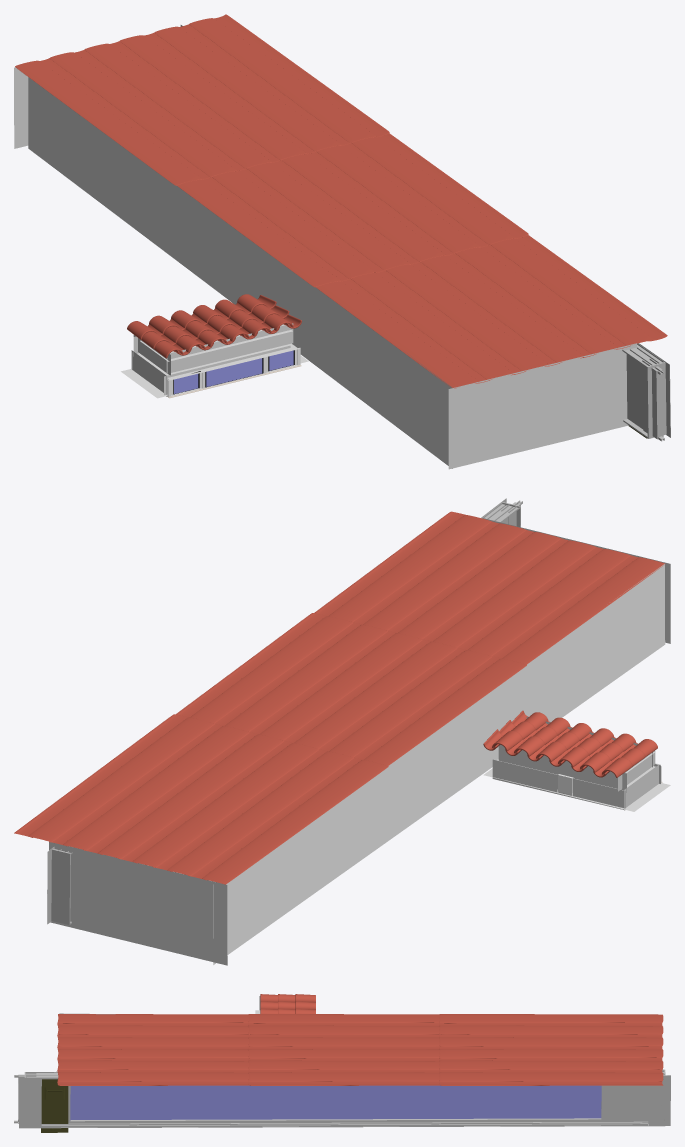
Rendered from HM Coastguard Airbase.fbx.
The picture shows the model from 3 angles, top to bottom: view 1: azimuth 30°, elevation 25°; view 2: azimuth 150°, elevation 25°; view 3: azimuth 270°, elevation 25°; orthographic projection. The views are drawn at different scales.
Parts seen in each view (by area): view 1: HM Coastguard Airbaseangarage-availiableRoof, HM Coastguard Airbasedhangarage-availiableHangar.002, HM Coastguard Airbasehangarage-availiable, HM Coastguard AirbasedRoof, HM Coastguard AirbaseWindow_, HM Coastguard Airbasedsieep room, WindowFrame, Window.L, HM Coastguard Airbasehangarage-availiableHangar.004, HM Coastguard AirbasedTerminalPlasterboard, HM Coastguard AirbaseTerminal002.001; view 2: HM Coastguard Airbaseangarage-availiableRoof, HM Coastguard Airbasedhangarage-availiableHangar.002, HM Coastguard Airbasehangarage-availiableHangar.004, HM Coastguard AirbasedRoof, WindowFrame, HM Coastguard AirbasTerminal002.003, HM Coastguard Airbasedsieep room.002, HM Coastguard Airbasehangarage-availiable, HM Coastguard AirbaseTerminal002.001; view 3: HM Coastguard Airbaseangarage-availiableRoof, Window.L, WindowFrame, Handle, HM Coastguard AirbasedRoof.
Boxes of the visible parts, box(x1,y1,x2,y2) form: HM Coastguard Airbaseangarage-availiableRoof: box(15, 14, 667, 388); HM Coastguard Airbasedhangarage-availiableHangar.002: box(28, 77, 452, 468); HM Coastguard Airbasehangarage-availiable: box(448, 343, 636, 469); HM Coastguard AirbasedRoof: box(127, 294, 301, 358); HM Coastguard AirbaseWindow_: box(167, 348, 301, 398); HM Coastguard Airbasedsieep room: box(166, 323, 293, 373); WindowFrame: box(180, 25, 670, 438); Window.L: box(626, 354, 664, 441); HM Coastguard Airbasehangarage-availiableHangar.004: box(14, 67, 28, 148); HM Coastguard AirbasedTerminalPlasterboard: box(137, 343, 298, 380); HM Coastguard AirbaseTerminal002.001: box(131, 350, 166, 396); HM Coastguard Airbaseangarage-availiableRoof: box(14, 511, 665, 884); HM Coastguard Airbasedhangarage-availiableHangar.002: box(213, 564, 665, 964); HM Coastguard Airbasehangarage-availiableHangar.004: box(49, 842, 227, 965); HM Coastguard AirbasedRoof: box(483, 710, 657, 777); WindowFrame: box(47, 498, 520, 924); HM Coastguard AirbasTerminal002.003: box(492, 759, 625, 809); HM Coastguard Airbasedsieep room.002: box(498, 744, 626, 792); HM Coastguard Airbasehangarage-availiable: box(482, 518, 670, 643); HM Coastguard AirbaseTerminal002.001: box(624, 764, 659, 810); HM Coastguard Airbaseangarage-availiableRoof: box(57, 1014, 663, 1085); Window.L: box(14, 1074, 648, 1123); WindowFrame: box(19, 1069, 670, 1128); Handle: box(41, 1079, 68, 1132); HM Coastguard AirbasedRoof: box(260, 994, 315, 1013).
Bounding box in the file's own units: 4290 × 962 × 9714.
